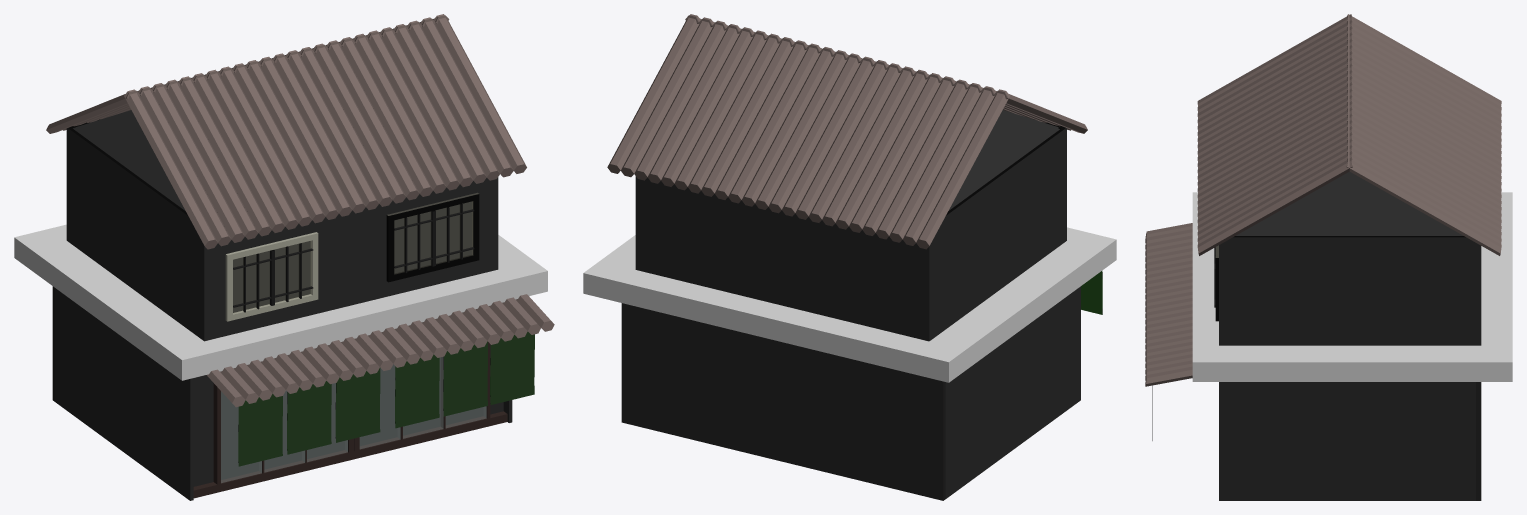
The model's file is Macha.fbx.
The picture shows the model from 3 angles, left to right: view 1: azimuth 30°, elevation 25°; view 2: azimuth 150°, elevation 25°; view 3: azimuth 270°, elevation 25°; orthographic projection. The views are drawn at different scales.
Parts seen in each view (by area): view 1: pCylinder28, pCube56, pCube54, pCube4, pCube53, pCylinder27, pCube59, pCube30, pCube28, pCube27, pCube29, pCube18 (+6 smaller); view 2: pCylinder28, pCube54, pCube56, pCube4, pCube53; view 3: pCylinder28, pCube56, pCube54, pCube4, pCylinder27.
Boxes of the visible parts, x1,y1,x2,y2 form: pCylinder28: [46, 14, 526, 249]; pCube56: [66, 110, 498, 341]; pCube54: [52, 286, 512, 500]; pCube4: [14, 224, 547, 380]; pCube53: [238, 331, 534, 466]; pCylinder27: [207, 294, 554, 407]; pCube59: [193, 342, 507, 498]; pCube30: [233, 241, 311, 313]; pCube28: [394, 201, 472, 273]; pCube27: [225, 232, 318, 321]; pCube29: [386, 192, 479, 282]; pCube18: [221, 392, 261, 482]; pCylinder28: [607, 14, 1087, 249]; pCube54: [621, 286, 1080, 500]; pCube56: [635, 110, 1066, 341]; pCube4: [583, 227, 1116, 382]; pCube53: [1081, 271, 1102, 314]; pCylinder28: [1197, 14, 1501, 255]; pCube56: [1219, 171, 1481, 345]; pCube54: [1219, 382, 1481, 500]; pCube4: [1192, 192, 1512, 381]; pCylinder27: [1145, 223, 1192, 386].
Bounding box in the file's own units: 6.76 × 6.31 × 6.17.
